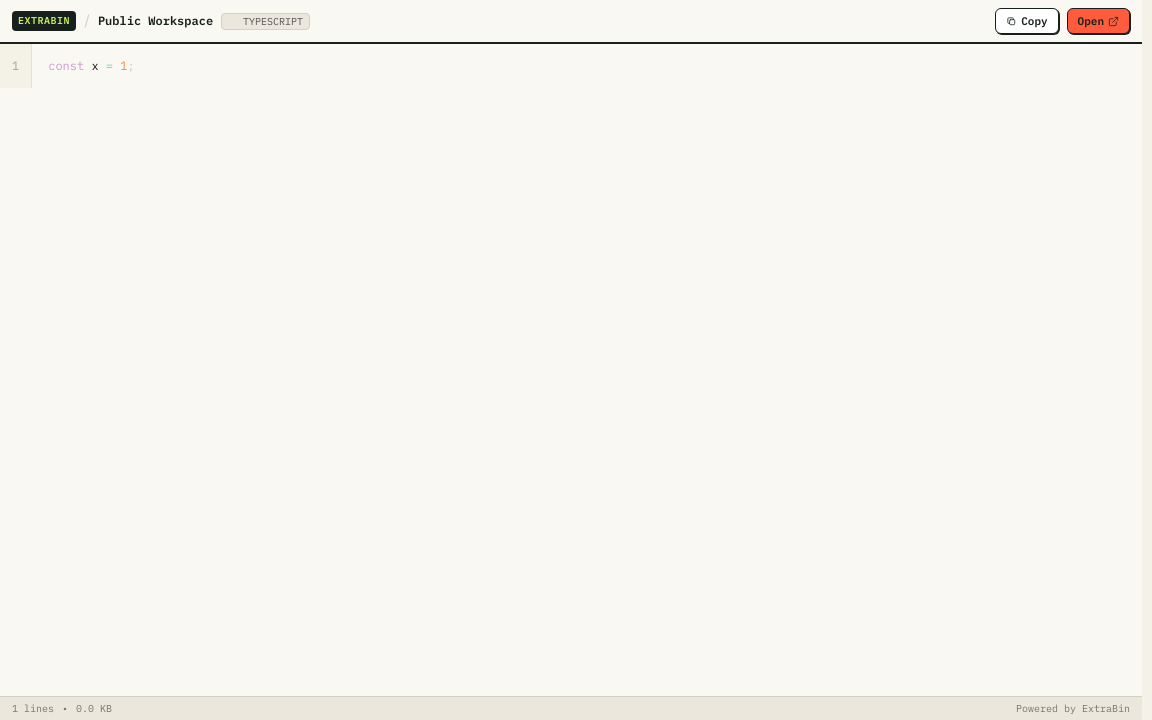
Test: Sharing Everywhere UI › EMBED-03: the embed page is read-only and announces clipboard failure
The image size is (1152, 720).
expect the heading "Public Workspace" is shown: met, box [98,13,213,29]
Click the button named "copy snippet code" at (1027, 21), box [995,8,1059,34]
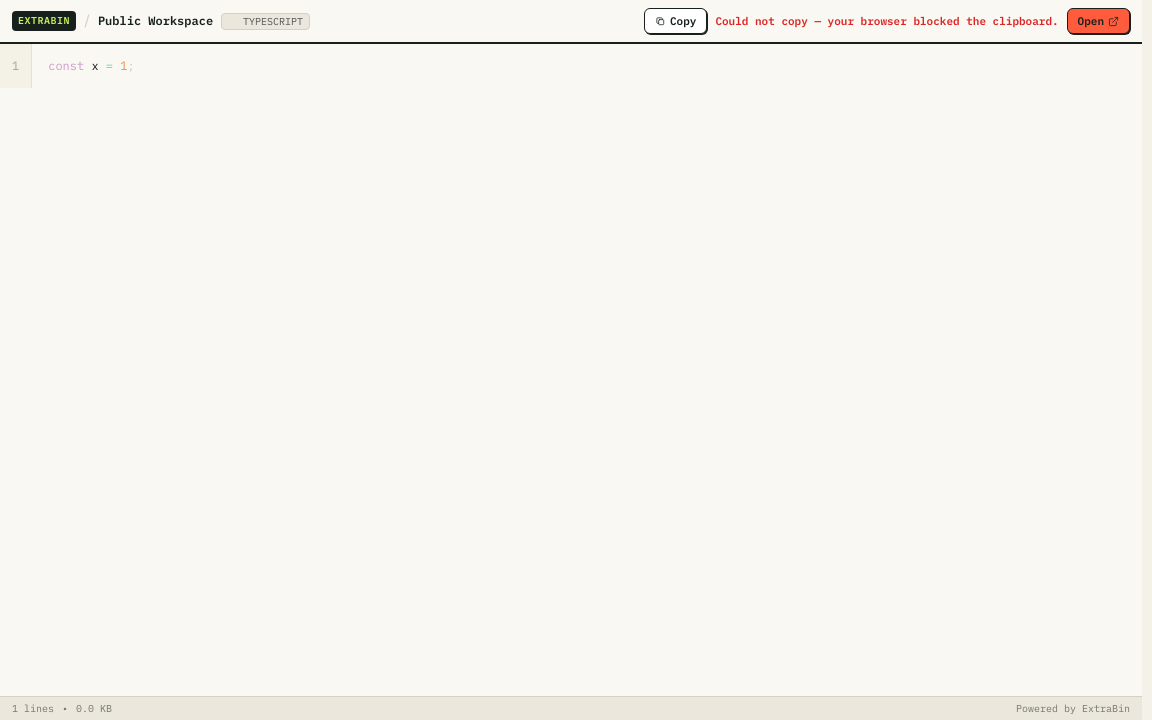
expect the message shows "Could not copy": met, box [715,14,1059,28]
